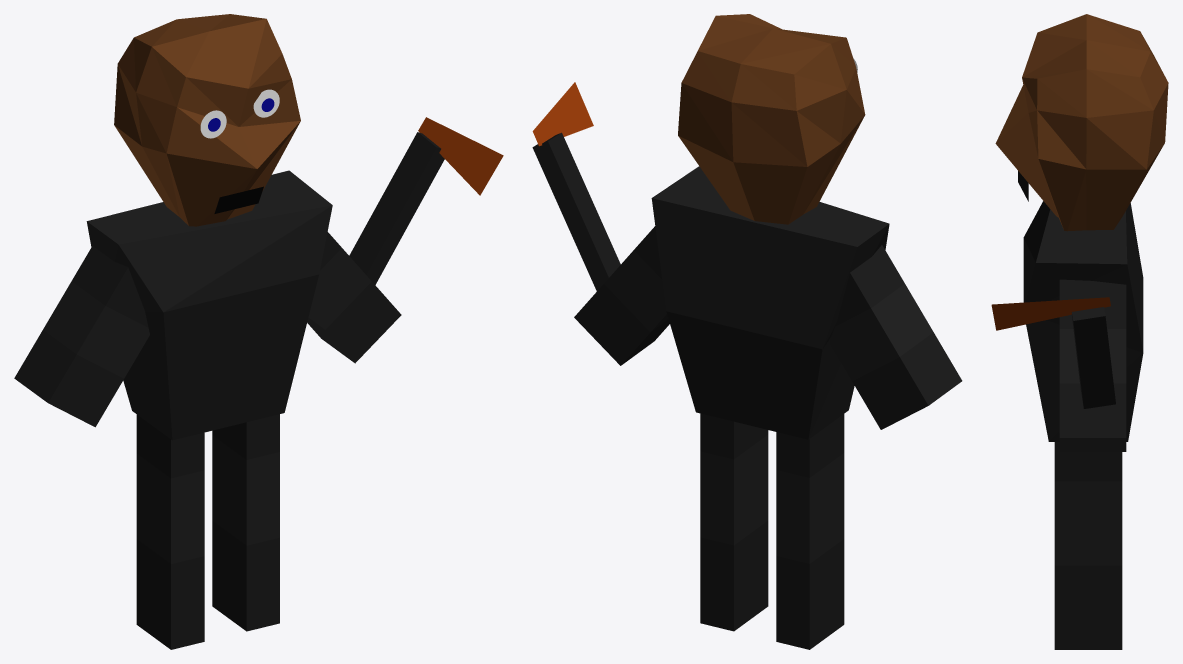
Rendered from axeman2f.obj.
3 views of the same model, side by side, from view 1: azimuth 30°, elevation 25°; view 2: azimuth 150°, elevation 25°; view 3: azimuth 270°, elevation 25° (orthographic).
Parts seen in each view (by area): view 1: Cube.001, Cube, Cube.004, Cube.003, Cube.005, Cube.002, Cube.007, Plane.001, Plane; view 2: Cube.001, Cube, Cube.004, Cube.005, Cube.003, Cube.002, Cube.007, Plane.001; view 3: Cube, Cube.005, Cube.001, Cube.002, Cube.007, Plane.001.
Boxes of the visible parts, <box> form: Cube.001: <box>86,170,332,440</box>; Cube: <box>114,14,300,226</box>; Cube.004: <box>136,414,204,649</box>; Cube.003: <box>14,245,149,427</box>; Cube.005: <box>212,414,279,631</box>; Cube.002: <box>307,232,401,363</box>; Cube.007: <box>349,132,444,284</box>; Plane.001: <box>418,117,503,195</box>; Plane: <box>214,186,263,213</box>; Cube.001: <box>651,166,889,439</box>; Cube: <box>678,14,865,224</box>; Cube.004: <box>776,414,844,649</box>; Cube.005: <box>700,413,768,631</box>; Cube.003: <box>830,245,962,429</box>; Cube.002: <box>574,226,669,365</box>; Cube.007: <box>532,132,620,291</box>; Plane.001: <box>532,82,593,146</box>; Cube: <box>995,14,1168,231</box>; Cube.005: <box>1054,442,1122,649</box>; Cube.001: <box>1023,201,1143,441</box>; Cube.002: <box>1059,279,1126,451</box>; Cube.007: <box>1071,307,1115,408</box>; Plane.001: <box>991,297,1110,330</box>.
Bounding box in the file's own units: 4.35 × 5.86 × 1.61.
